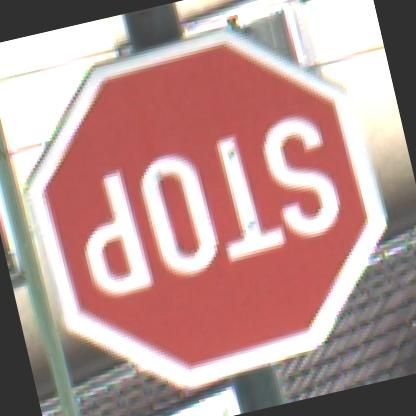stop: (0, 9, 412, 407)
